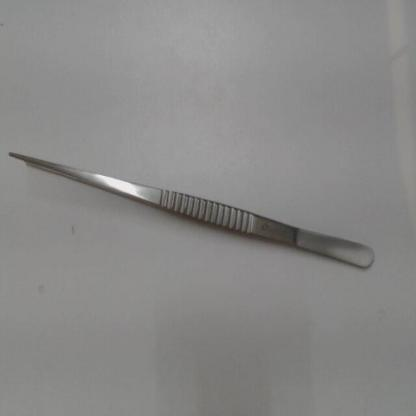DeBakey Dissector: (2, 146, 376, 278)
